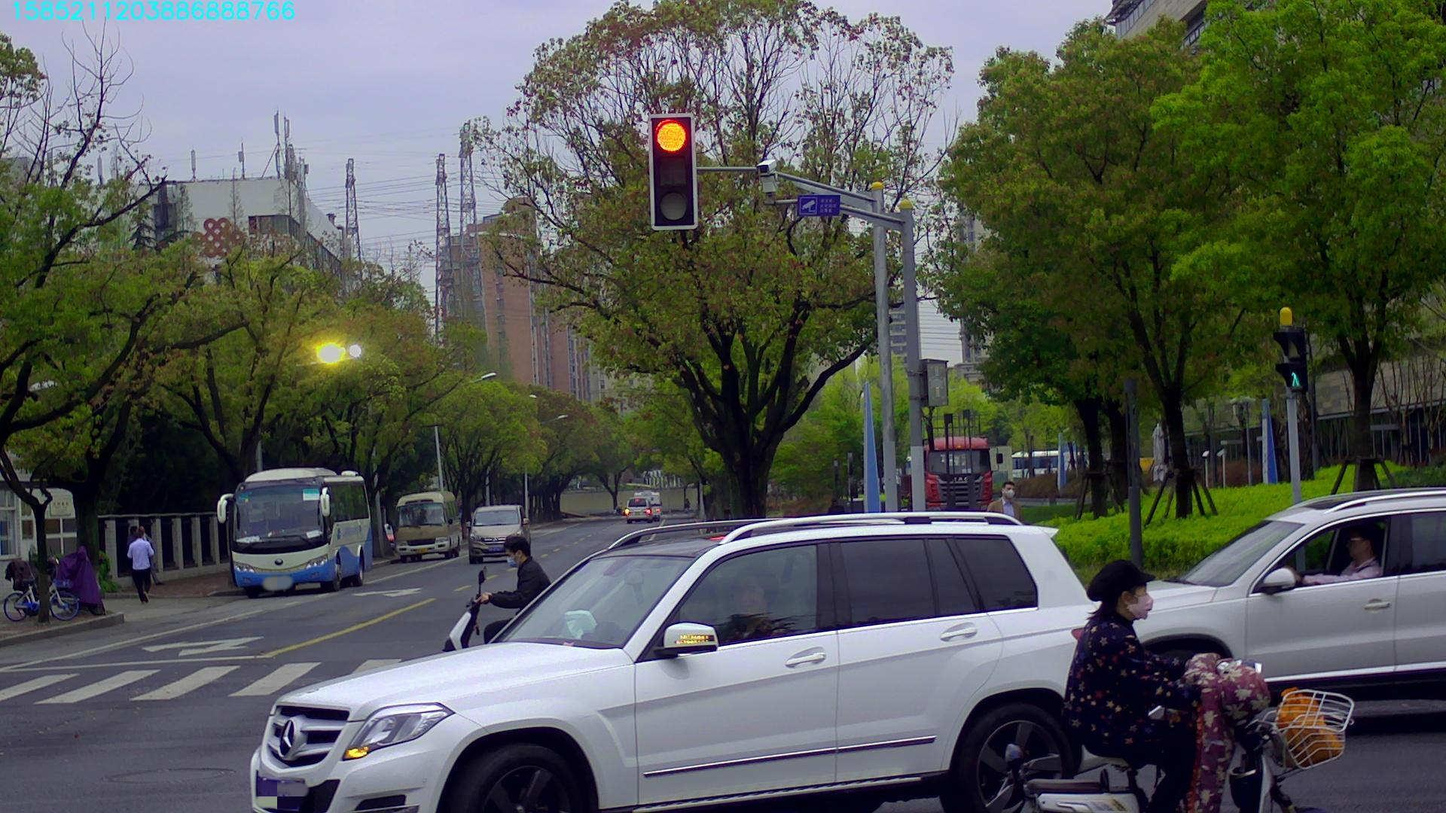red: (651, 114, 694, 227)
